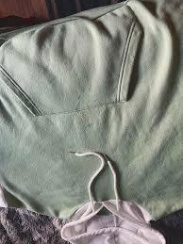oil: (68, 88, 92, 120), (84, 122, 96, 135)
